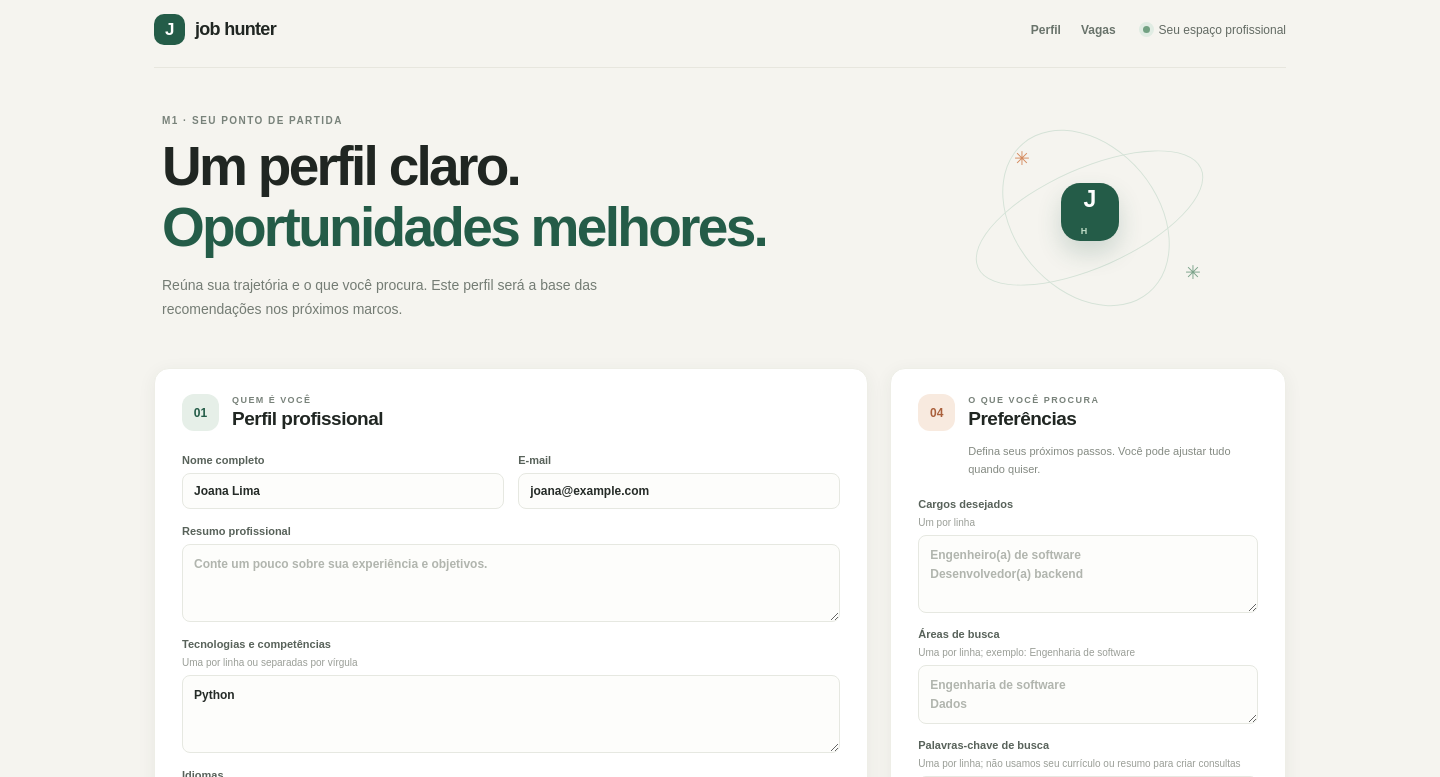
perfil profissional › salva preferências no endpoint do perfil
The width and height of the screenshot is (1440, 777).
Expected: the field showing "Joana Lima" is shown, [182,473,504,509]
Type "Engenheira backend" into the text box named "desired_titles".
click(1088, 574); type("Engenheira backend")  # box [918,535,1258,613]
(page scrolled)
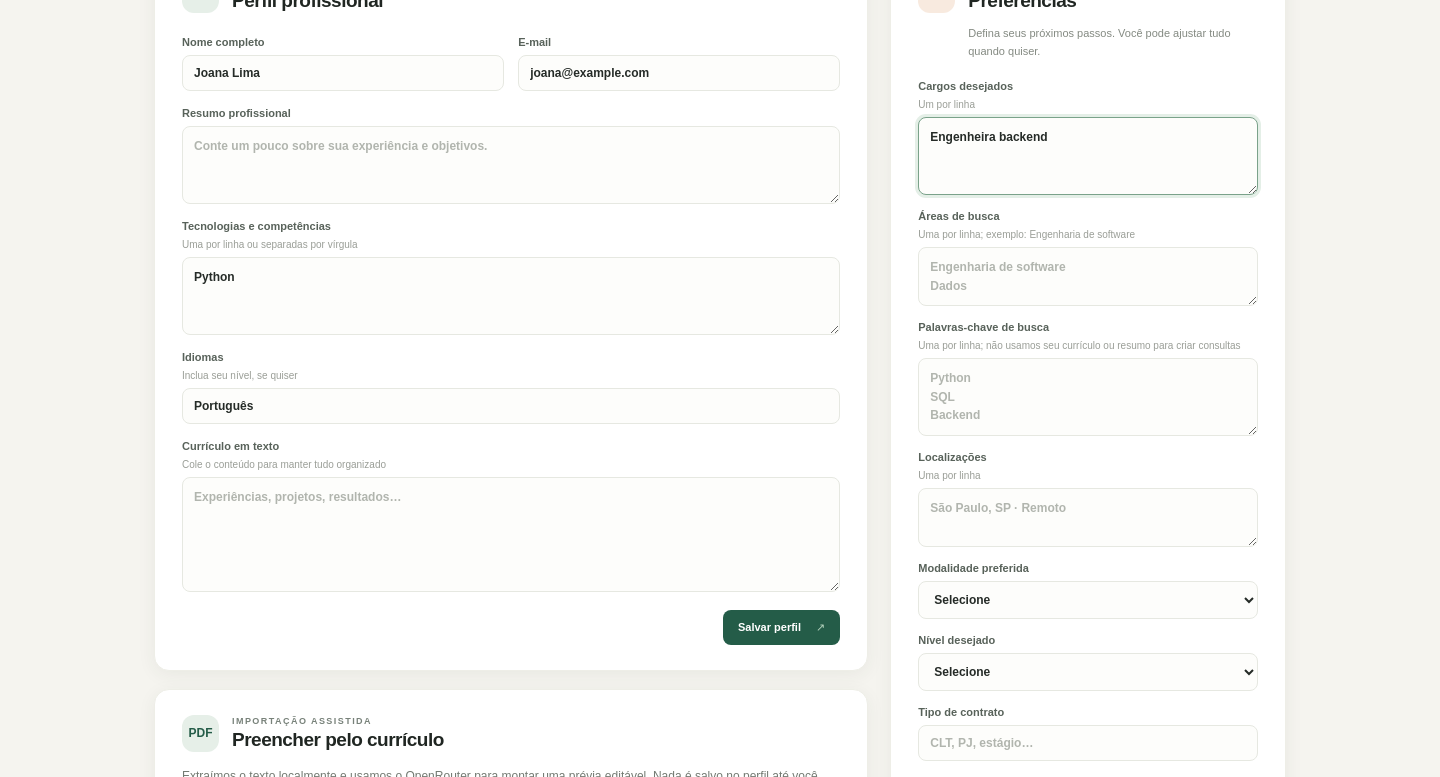
Type "Python" into the text box named "search_keywords".
click(1088, 397); type("Python")  # box [918,358,1258,436]
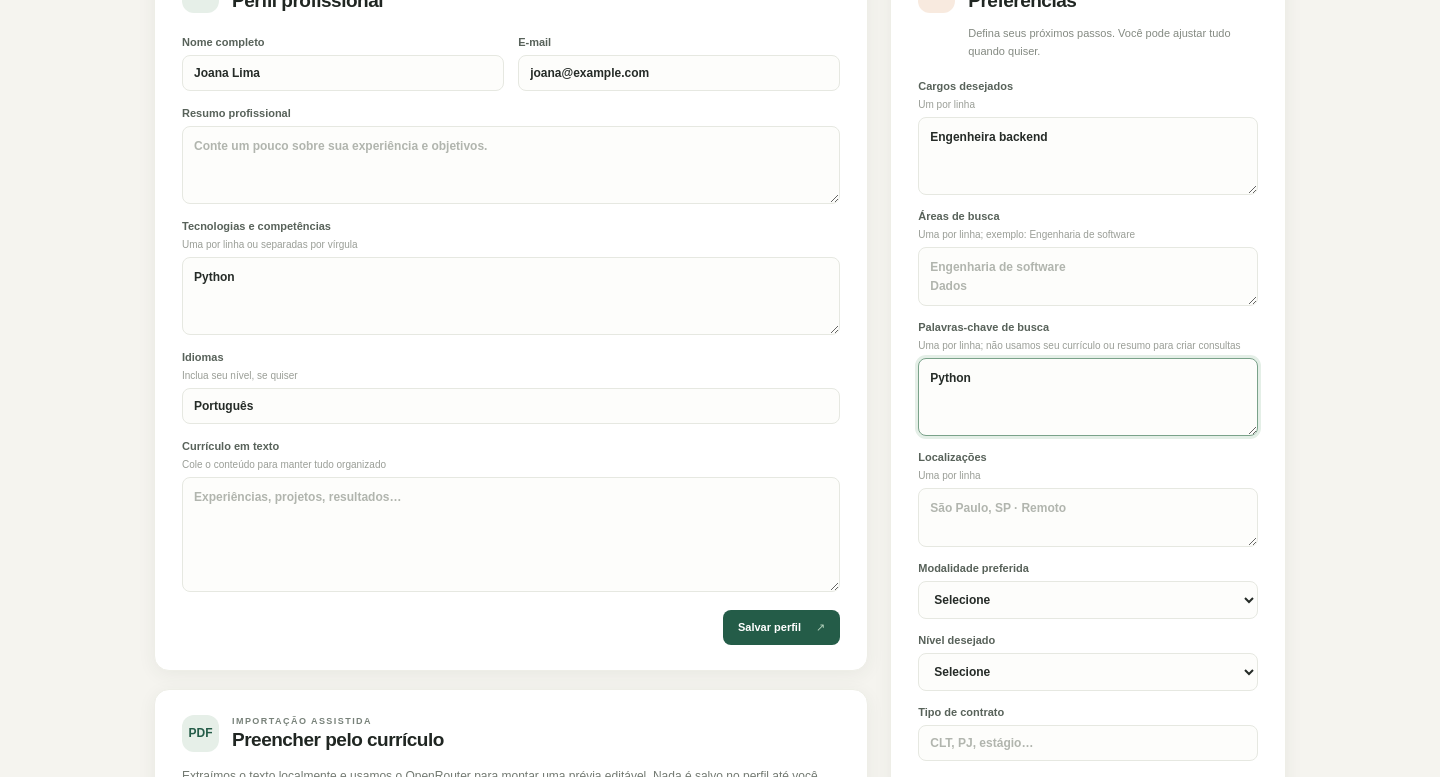
Type "Dados" into the text box named "search_areas".
click(1088, 277); type("Dados")  # box [918,247,1258,306]
(page scrolled)
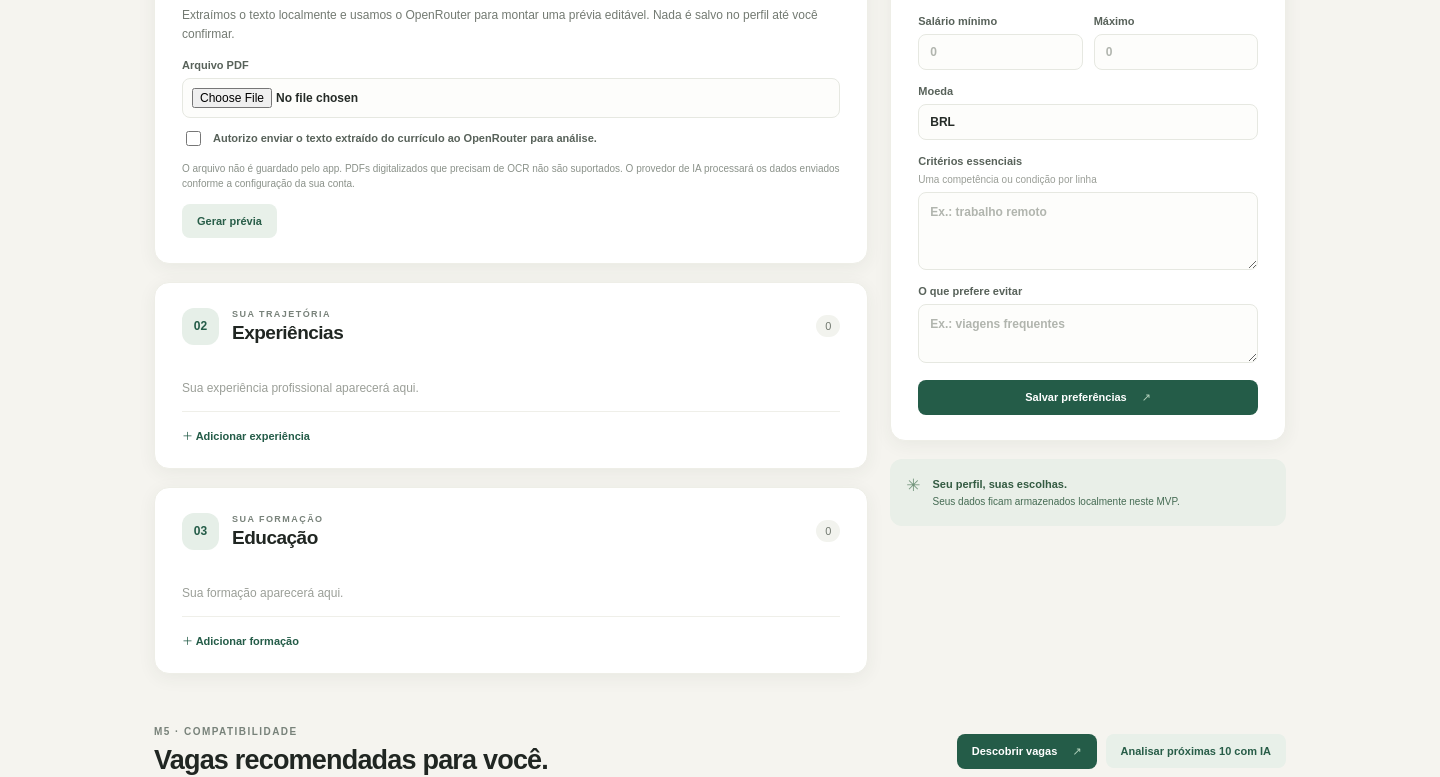
Click the button "Salvar preferências ↗".
click(1088, 398)  # box [918,380,1258,415]
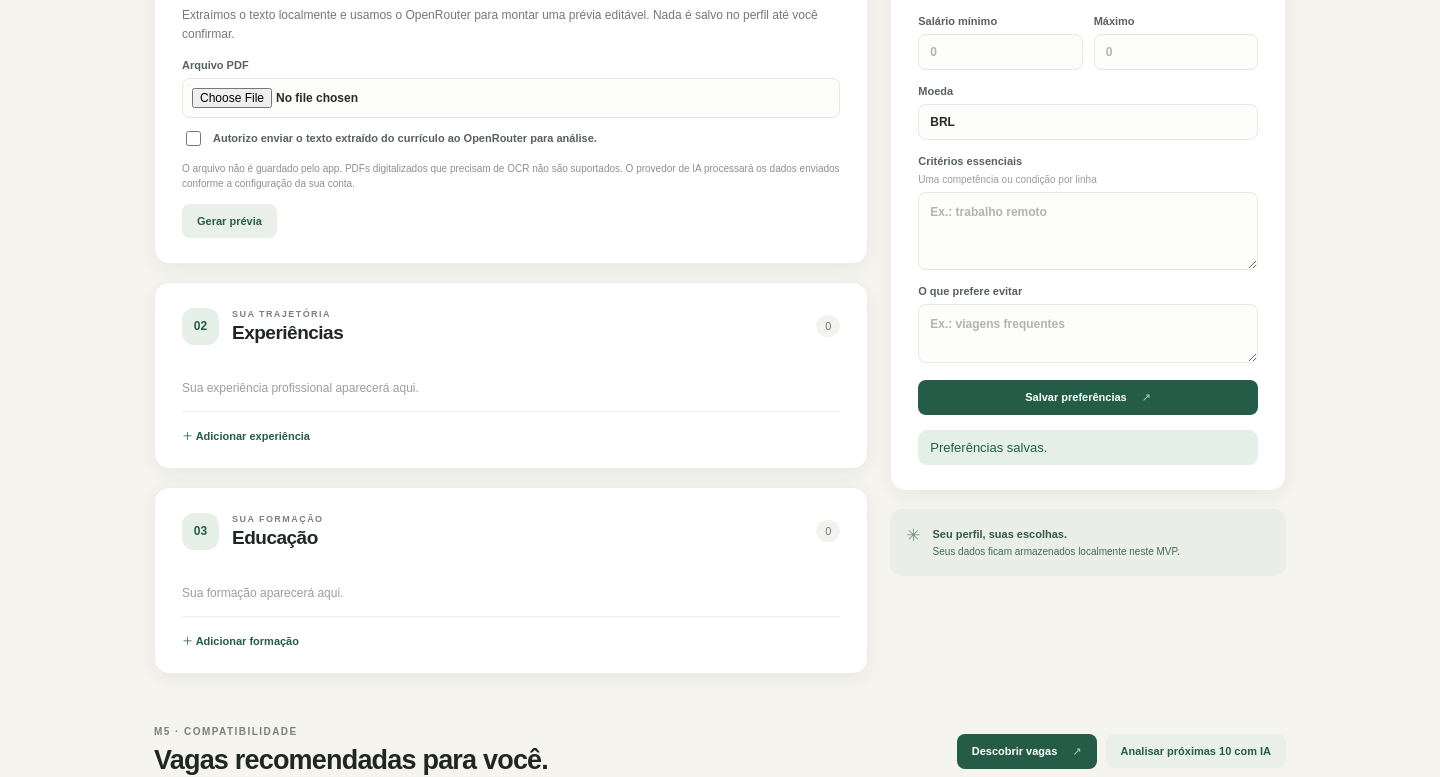
Result: the message reads "Preferências salvas." at [930,440,1047,455]
